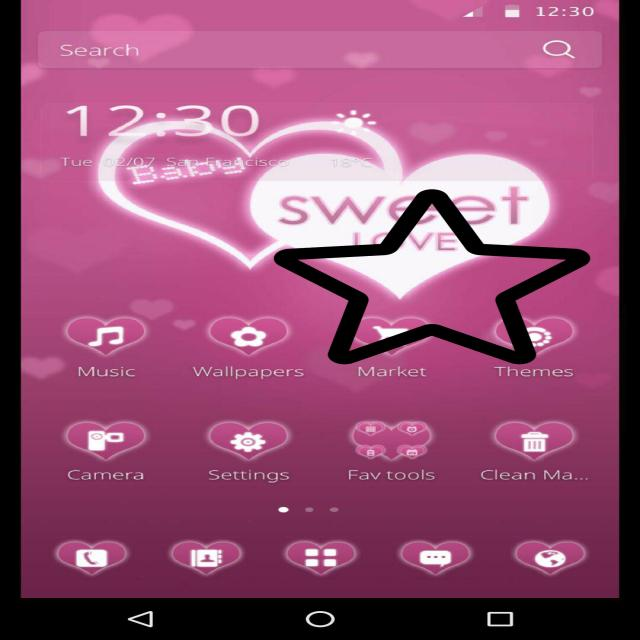forced continuity: (274, 185, 590, 368)
